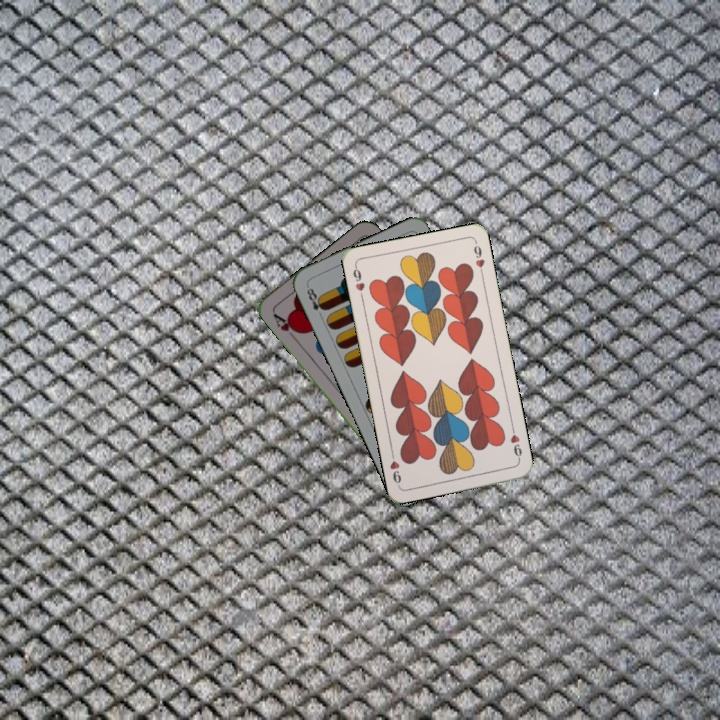E8: (303, 282, 328, 320)
H9: (506, 423, 524, 464), (349, 262, 367, 302)
HA: (269, 308, 302, 343)
